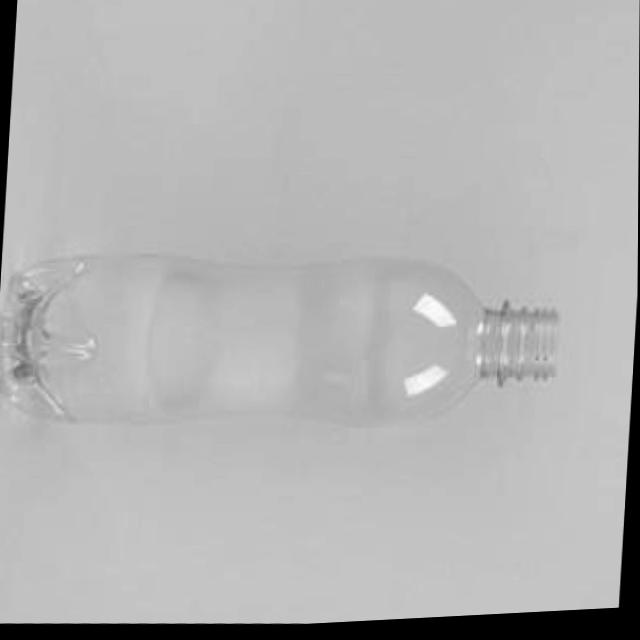anorganik: (0, 183, 599, 528)
